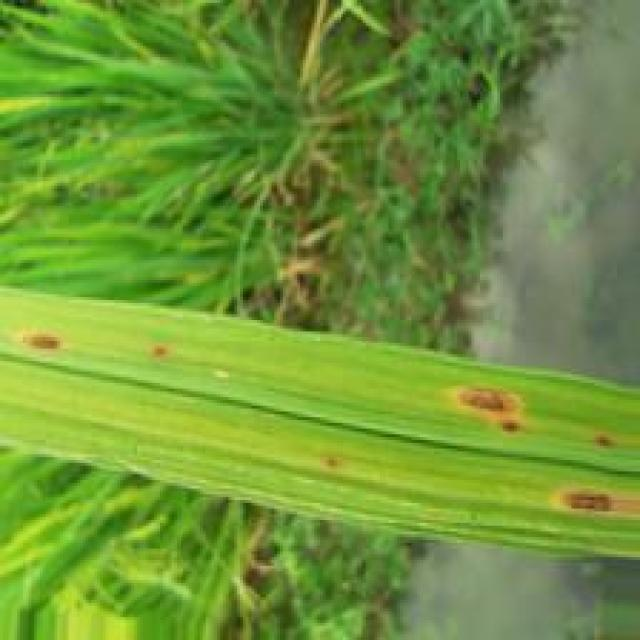Narrow_Brown_Leaf_Spot: (448, 377, 538, 430), (544, 477, 640, 523)
